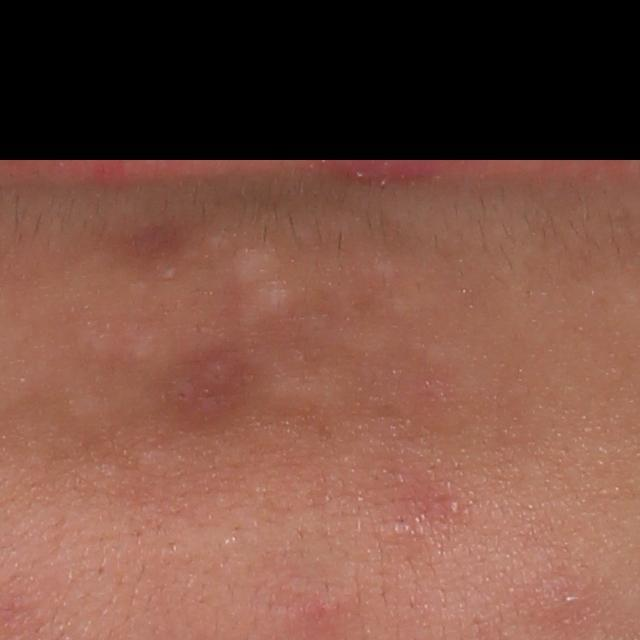hypertrophic_scar: (232, 240, 298, 328), (270, 366, 360, 424), (88, 330, 162, 365)
